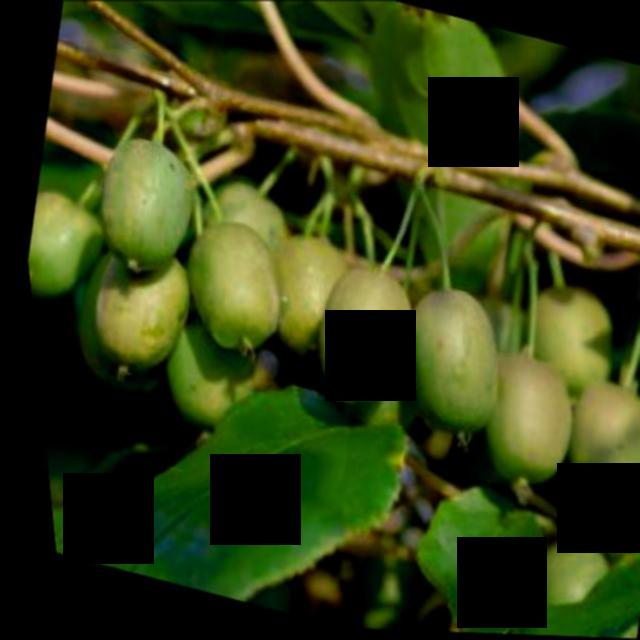kiwi: (383, 278, 517, 447), (297, 253, 425, 411), (167, 212, 299, 365), (147, 307, 284, 445), (74, 237, 199, 382), (85, 136, 208, 283), (463, 349, 583, 493), (512, 277, 627, 411), (505, 519, 625, 638), (256, 229, 358, 365), (546, 377, 640, 514), (18, 186, 114, 316), (187, 173, 296, 280)
